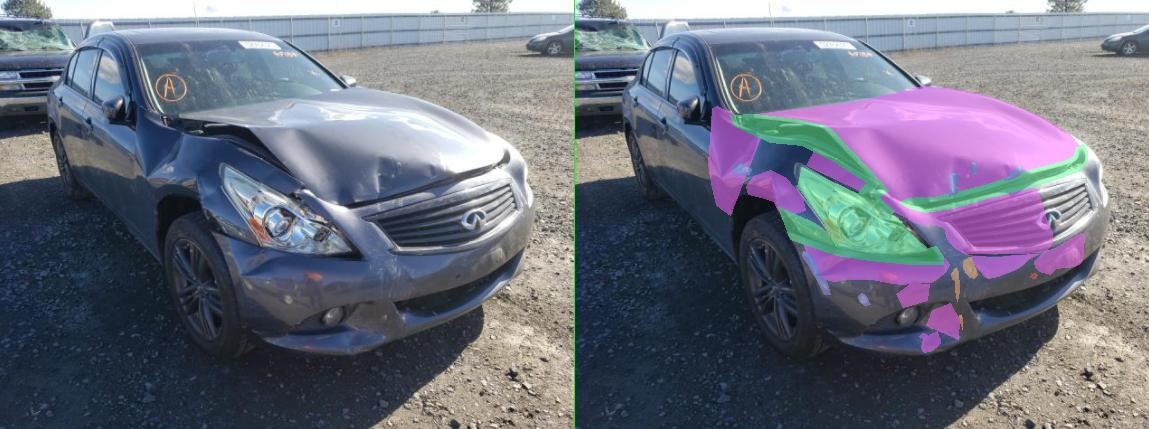Broken part: (308, 114, 639, 217), (649, 144, 1025, 212), (444, 167, 711, 255), (406, 207, 737, 264)
Dent: (330, 86, 1009, 205), (607, 185, 955, 253), (452, 239, 749, 284), (266, 106, 372, 215), (462, 147, 601, 194), (342, 170, 460, 214), (919, 233, 1019, 274), (795, 254, 927, 278), (703, 303, 769, 339), (643, 283, 709, 307), (689, 331, 731, 352)
Missing part: (911, 273, 925, 278)
Paint chip: (777, 257, 805, 278), (753, 267, 769, 301), (783, 197, 809, 205), (767, 315, 775, 329)
Scratch: (454, 251, 510, 294), (859, 165, 895, 180), (749, 170, 767, 196), (316, 162, 352, 174), (566, 293, 591, 305), (791, 161, 805, 175)
